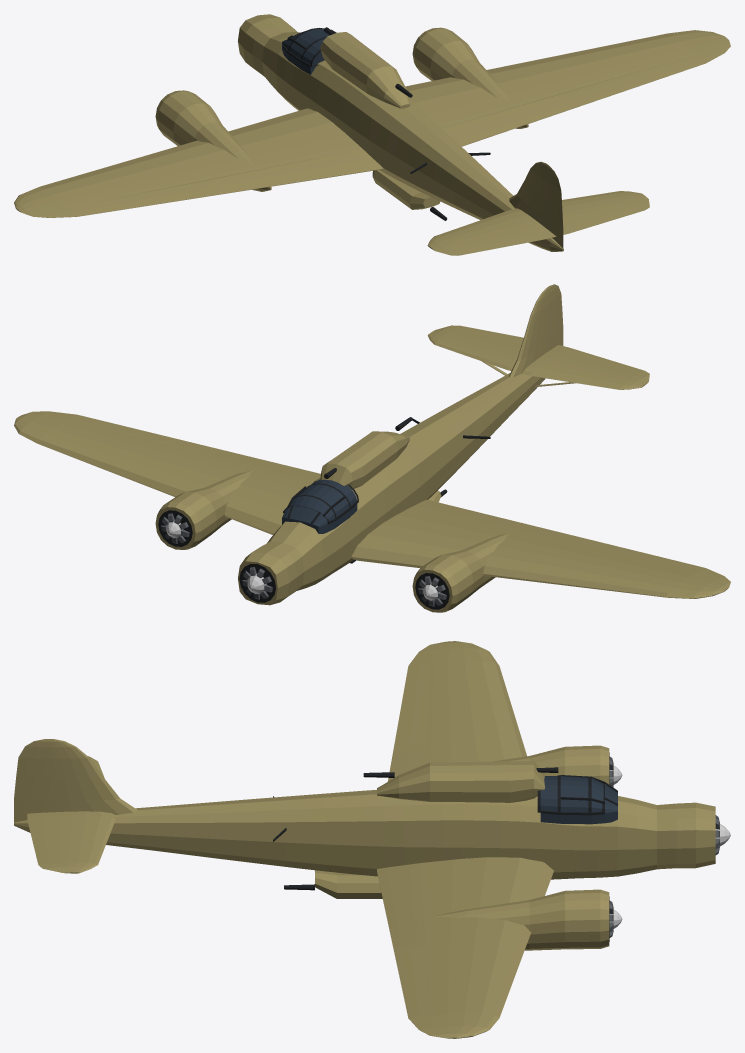
3 views of the same model, one above another, from view 1: azimuth 30°, elevation 25°; view 2: azimuth 150°, elevation 25°; view 3: azimuth 270°, elevation 25° (orthographic). The views are drawn at different scales.
Parts seen in each view (by area): view 1: Fuselage, Wing L, Wing R, Nacelles, Gobbo, Flap L, Flap R, Aileron R, Aileron L, Stabilizer L, Vertical Fin, Elevator L (+6 smaller); view 2: Fuselage, Wing L, Wing R, Nacelles, Gobbo, Cockpit Glass, Stabilizer L, Stabilizer R, Vertical Fin, Flap L, Cowl Face, Aileron R (+7 smaller); view 3: Fuselage, Wing R, Wing L, Nacelles, Gobbo, Vertical Fin, Cockpit Glass, Stabilizer R, Flap R, Rudder, Aileron L, Aileron R (+4 smaller).
Part boxes in pixels (x1,y1,x2,y2): Fuselage: (238, 14, 563, 251); Wing L: (14, 108, 383, 217); Wing R: (405, 30, 730, 128); Nacelles: (155, 27, 528, 191); Gobbo: (320, 32, 409, 108); Flap L: (211, 151, 373, 193); Flap R: (442, 95, 570, 146); Aileron R: (564, 49, 718, 106); Aileron L: (50, 181, 218, 217); Stabilizer L: (427, 208, 541, 249); Vertical Fin: (509, 161, 546, 226); Elevator L: (432, 225, 556, 255); Fuselage: (238, 373, 545, 605); Wing L: (351, 499, 730, 598); Wing R: (14, 411, 312, 534); Nacelles: (155, 470, 509, 612); Gobbo: (320, 431, 409, 489); Cockpit Glass: (282, 479, 357, 533); Stabilizer L: (523, 352, 646, 389); Stabilizer R: (427, 329, 520, 370); Vertical Fin: (509, 288, 548, 377); Flap L: (419, 502, 570, 540); Cowl Face: (158, 510, 449, 609); Aileron R: (50, 412, 217, 454); Fuselage: (14, 790, 715, 879); Wing R: (377, 857, 553, 1038); Wing L: (393, 641, 526, 764); Nacelles: (431, 745, 609, 950); Gobbo: (377, 761, 544, 802); Vertical Fin: (51, 739, 137, 814); Cockpit Glass: (540, 776, 617, 824); Stabilizer R: (57, 811, 115, 873); Flap R: (377, 867, 424, 946); Rudder: (14, 739, 51, 822); Aileron L: (394, 654, 433, 748); Aileron R: (393, 945, 433, 1026).
Bounding box in the file's own units: 21.2 × 3.9 × 16.2.
